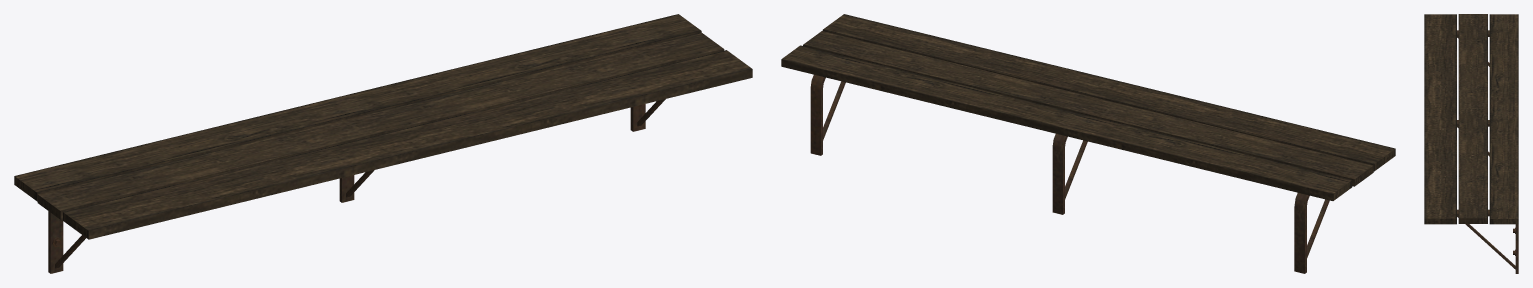
File: hanging_shelf_mx_2_1.obj
The picture shows the model from 3 angles, left to right: view 1: azimuth 30°, elevation 25°; view 2: azimuth 150°, elevation 25°; view 3: azimuth 270°, elevation 25°; orthographic projection. The views are drawn at different scales.
Visible parts, largest first — view 1: hanging_shelf_mx_2_1; view 2: hanging_shelf_mx_2_1; view 3: hanging_shelf_mx_2_1.
Boxes of the visible parts, <box> form: hanging_shelf_mx_2_1: <box>14,14,752,273</box>; hanging_shelf_mx_2_1: <box>781,14,1395,273</box>; hanging_shelf_mx_2_1: <box>1424,14,1518,273</box>.
Bounding box in the file's own units: 1.6 × 0.24 × 0.312.
